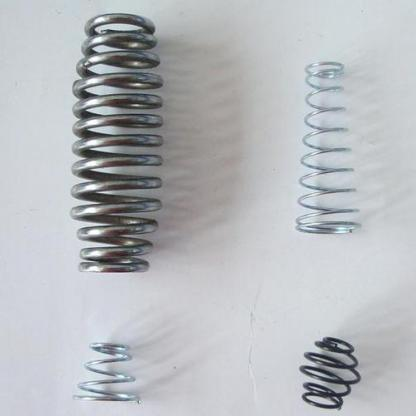FOD: (65, 9, 170, 278), (289, 57, 364, 240), (294, 334, 365, 413), (68, 338, 146, 408)
